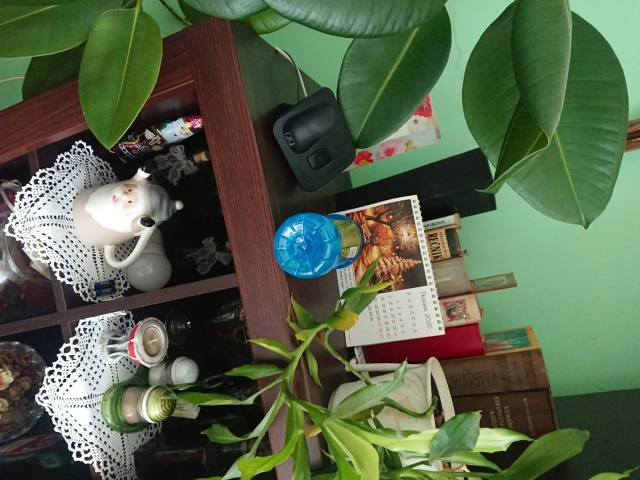Vindi Iso Sport Forest Strawberries 500mL: (270, 211, 368, 281)
